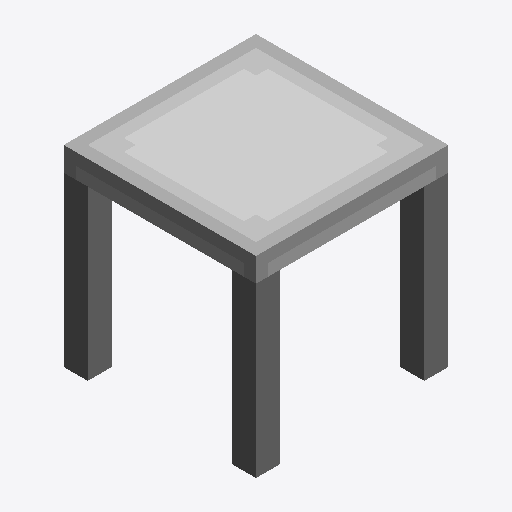
A Minecraft block model of 5 cuboids, rendered isometrically (azimuth 45°, elevation 35.3°) with the resource pack's own textures.
Visible parts, largest first — element 1, element 4, element 2, element 5.
Part boxes in pixels (x1,y1,x2,y2): element 1: (64, 34, 447, 282); element 4: (232, 270, 279, 477); element 2: (64, 173, 111, 380); element 5: (400, 173, 447, 380).
Size of the model in its own units: 16 by 16 by 16.